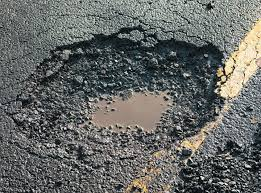pothole: (14, 23, 225, 147), (177, 139, 261, 186)
